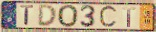3: (79, 4, 98, 29)
C: (99, 4, 119, 30)
D: (37, 4, 58, 28)
O: (57, 4, 80, 29)
T: (20, 4, 35, 27), (122, 7, 137, 28)
